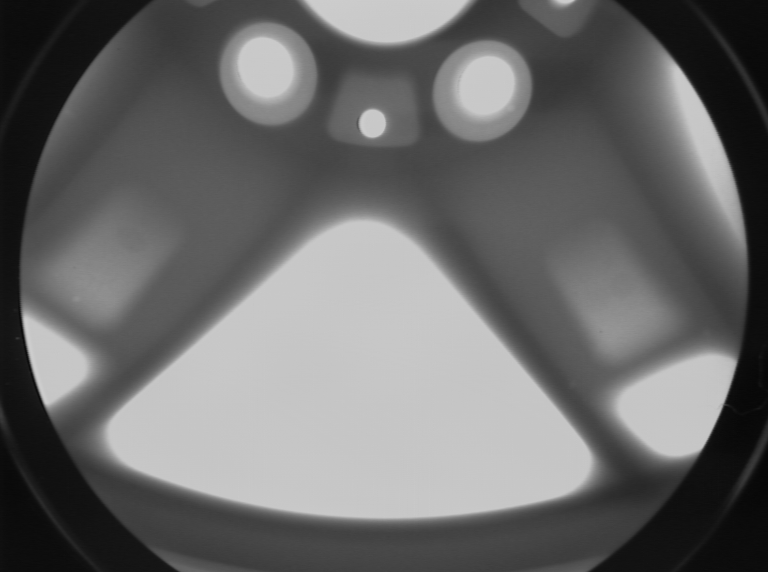defect: (696, 321, 719, 343)
